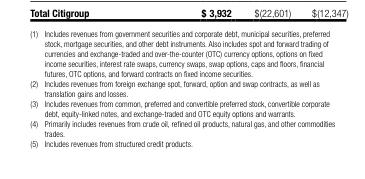table: (29, 28, 334, 147)
table column: (40, 28, 334, 147), (29, 28, 40, 147)
table row: (29, 28, 334, 78), (29, 78, 334, 98), (29, 98, 334, 118), (29, 118, 334, 137), (29, 137, 334, 147)
